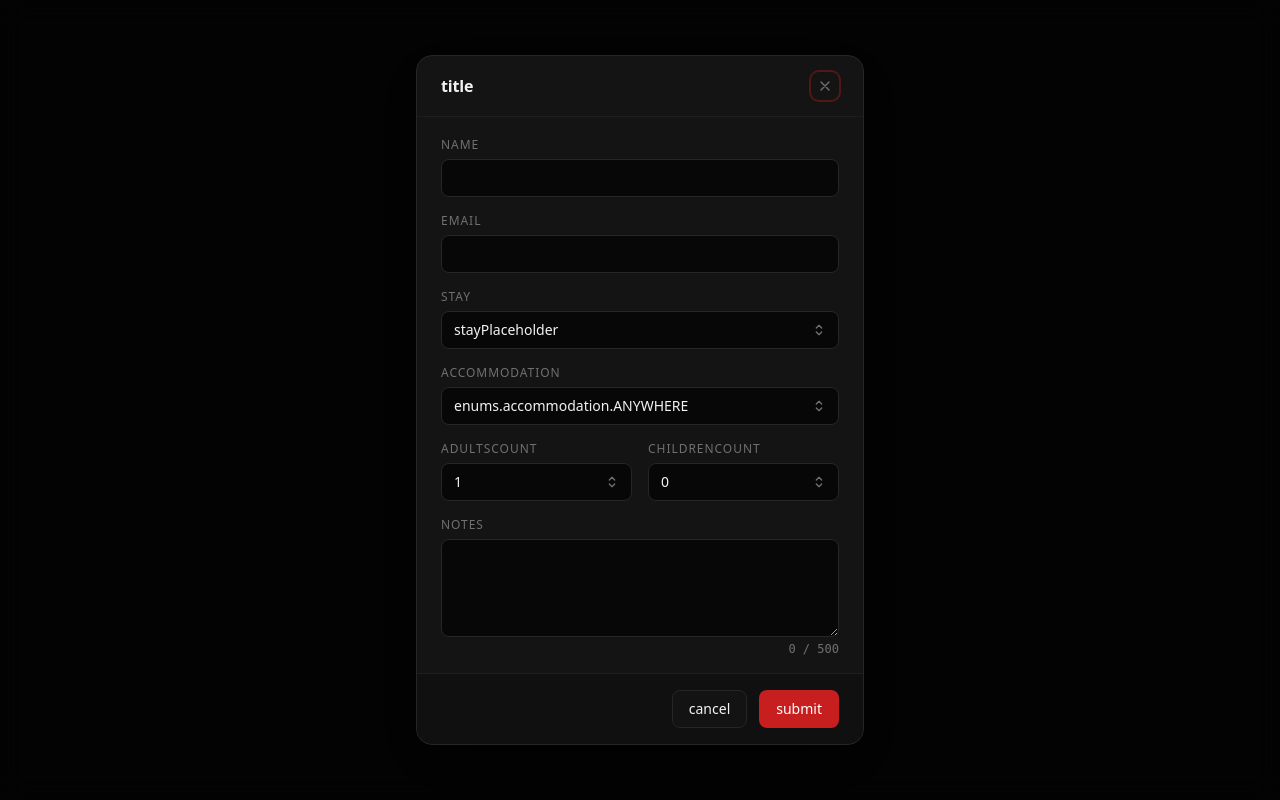
Test: AddRegistrationModal › should disable submit button and show submitting label while request is pending
This screenshot has width=1280, height=800.
Type "Alice Smith" into the field labelled "name".
click(640, 178); type("Alice Smith")  # box [441,159,839,197]
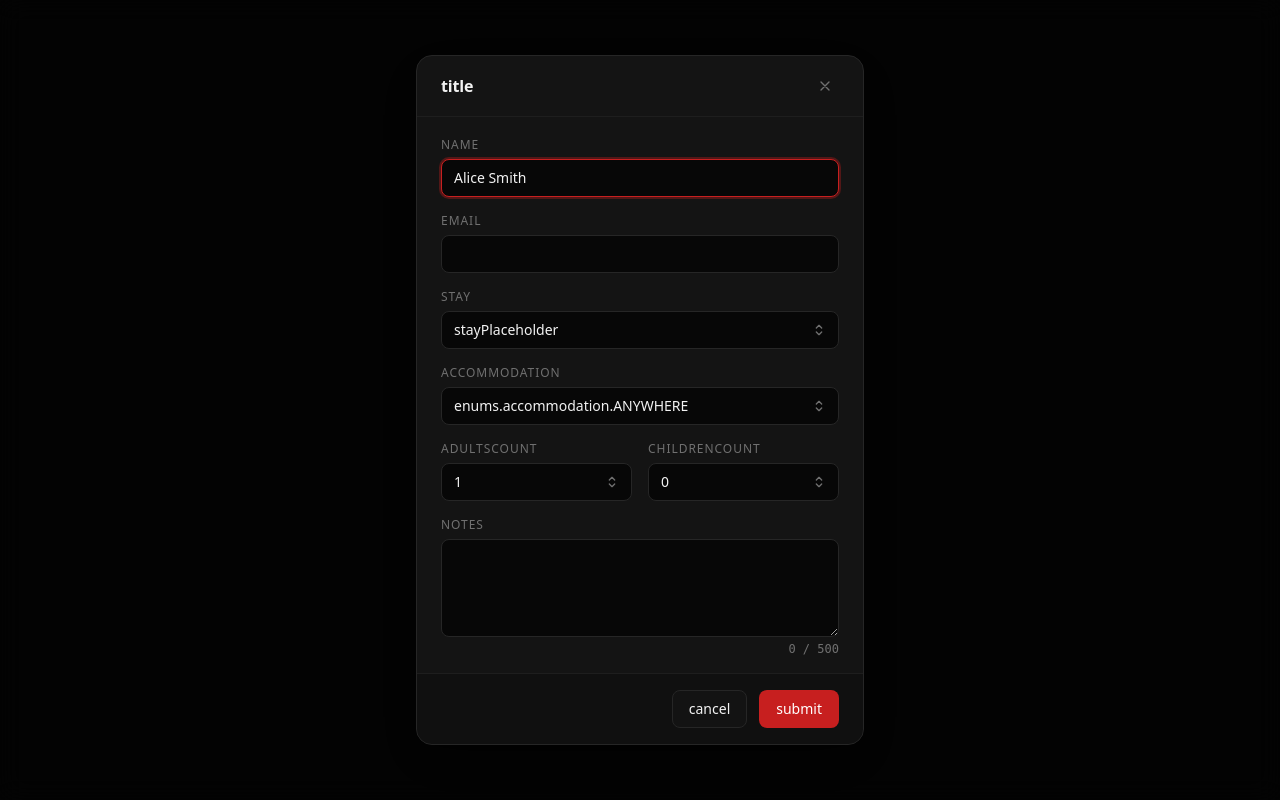
Type "alice@example.com" into the field labelled "email".
click(640, 254); type("alice@example.com")  # box [441,235,839,273]
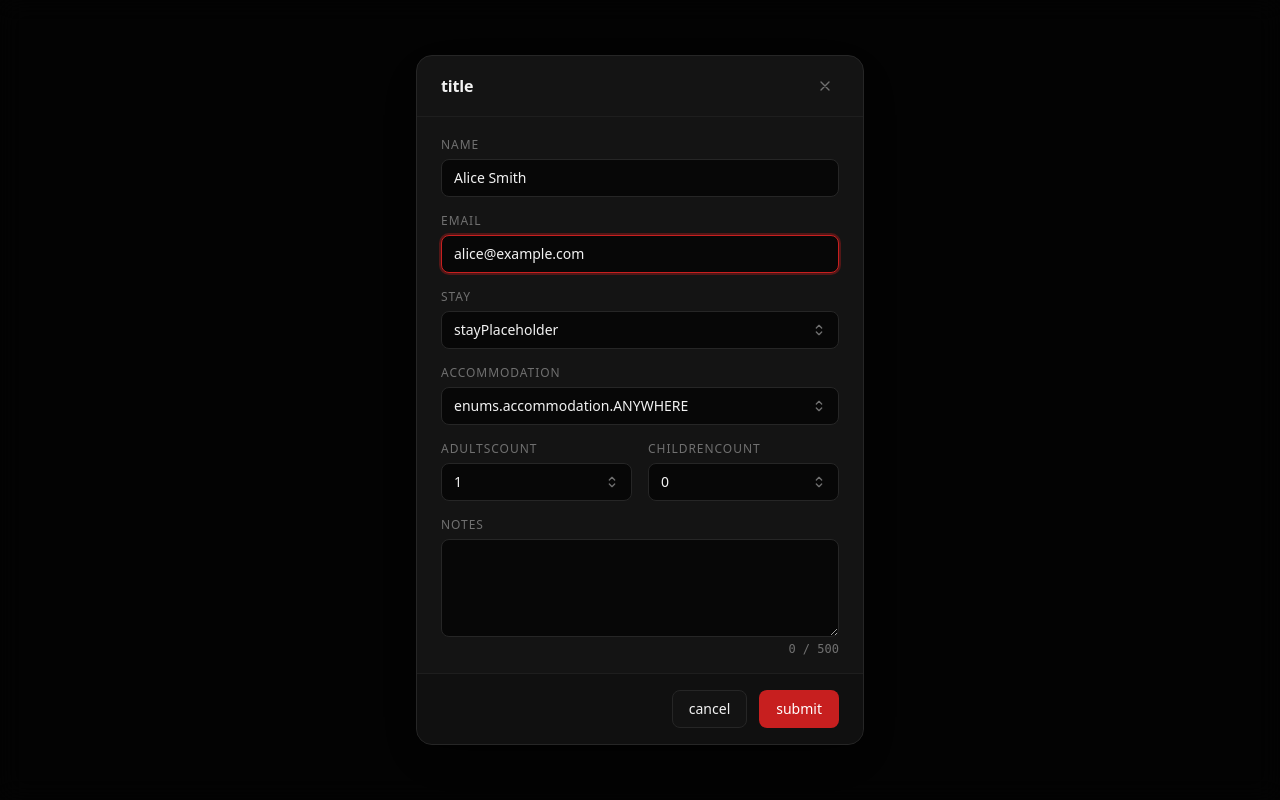
Select "enums.stay.SAT_SUN" in the dropdown labelled "stay" at [640, 330], box [441,311,839,349]
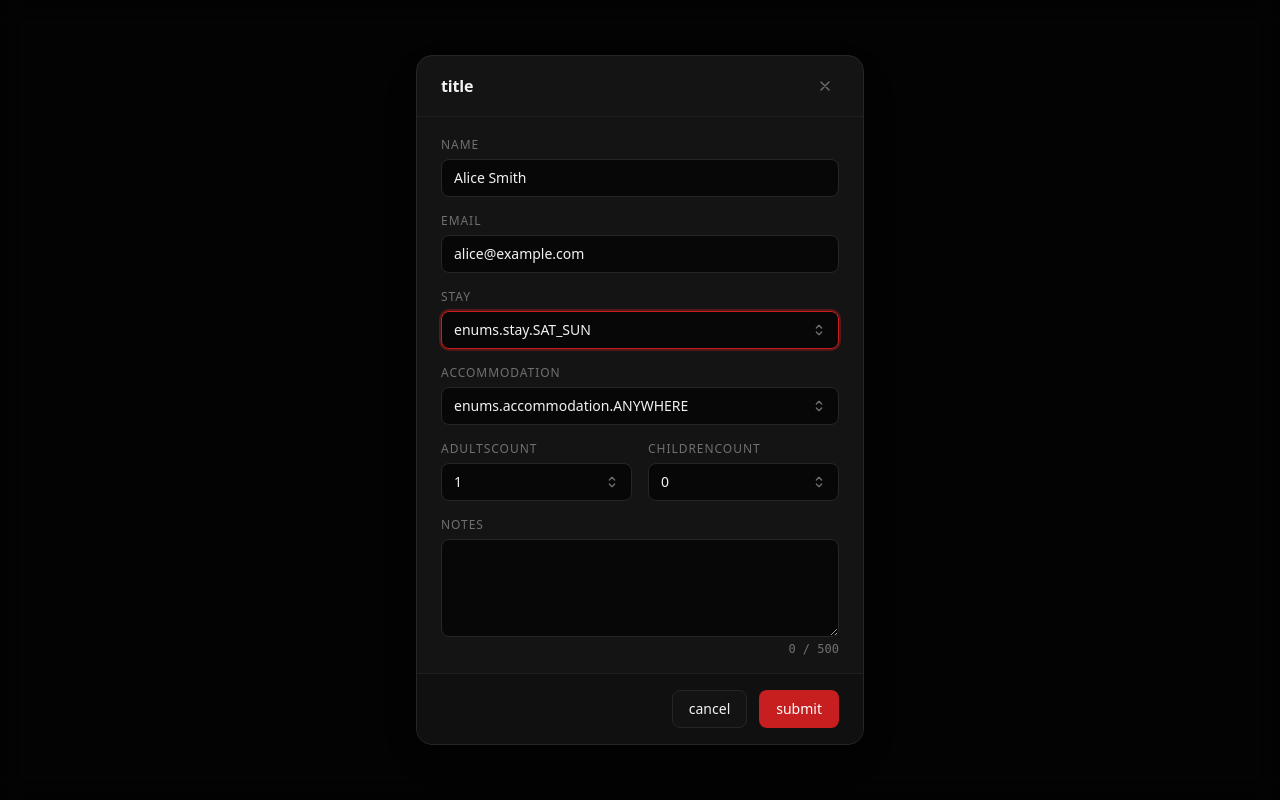
Click the button "submit".
click(799, 709)  # box [759,690,839,728]
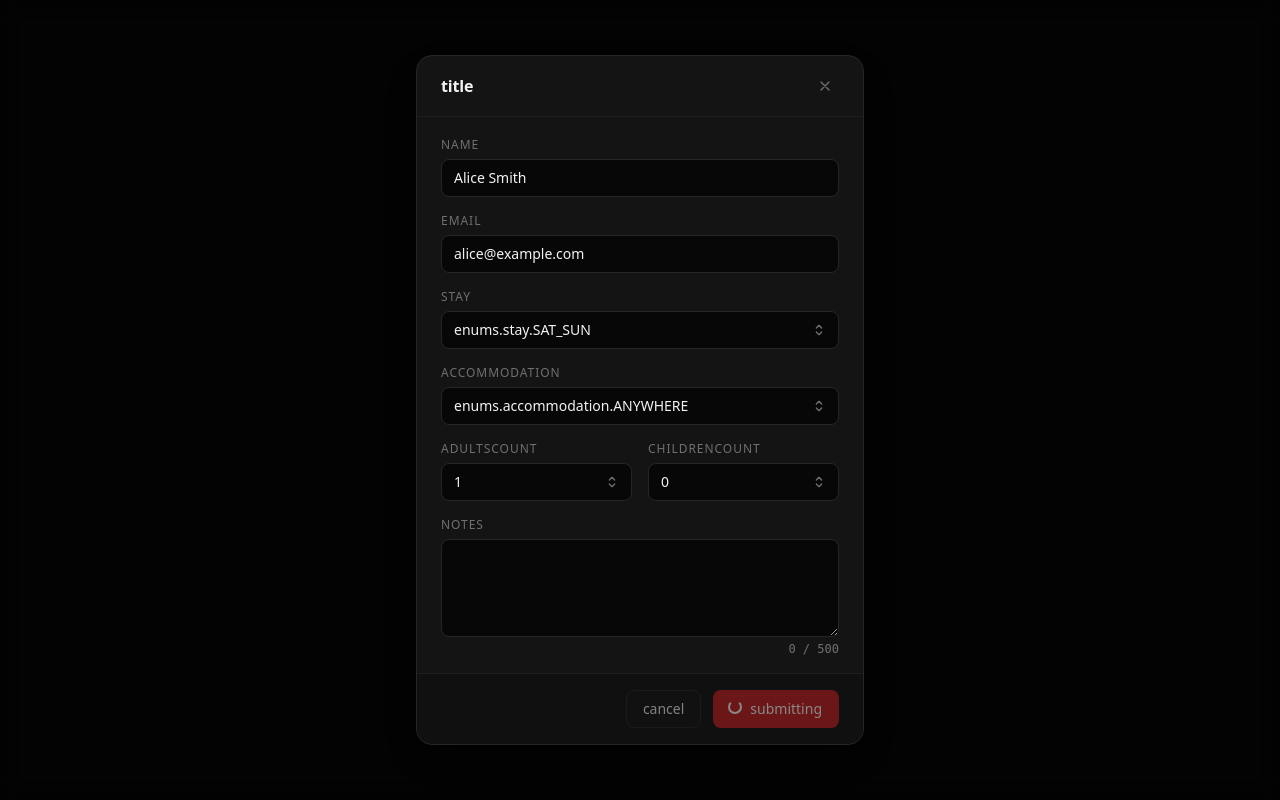
Now the button "submitting" is disabled, box [713,690,839,728]
